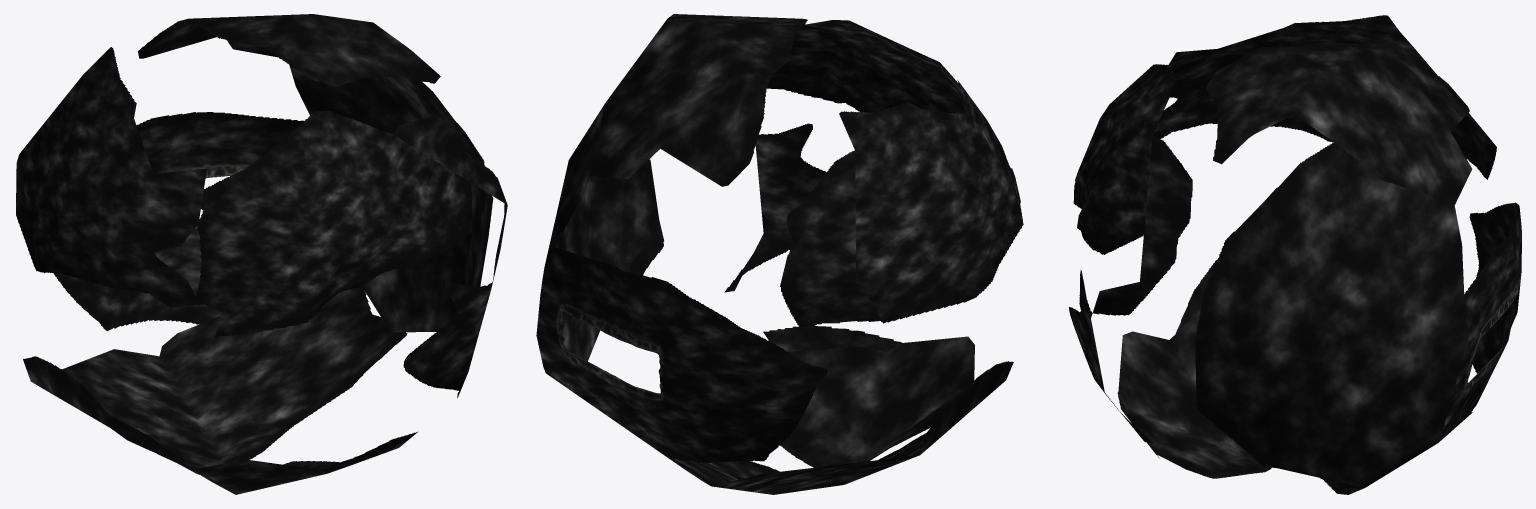
File: jaguar_company_base.obj
The picture shows the model from 3 angles, left to right: view 1: azimuth 30°, elevation 25°; view 2: azimuth 150°, elevation 25°; view 3: azimuth 270°, elevation 25°; orthographic projection. The views are drawn at different scales.
Visible parts, largest first — view 1: jaguar_company_base; view 2: jaguar_company_base; view 3: jaguar_company_base.
Boxes of the visible parts, x1=… form: jaguar_company_base: x1=16, y1=14, x2=507, y2=494; jaguar_company_base: x1=536, y1=14, x2=1023, y2=494; jaguar_company_base: x1=1069, y1=15, x2=1521, y2=494.
Size of the model in its own units: 1241 by 1236 by 1184.
